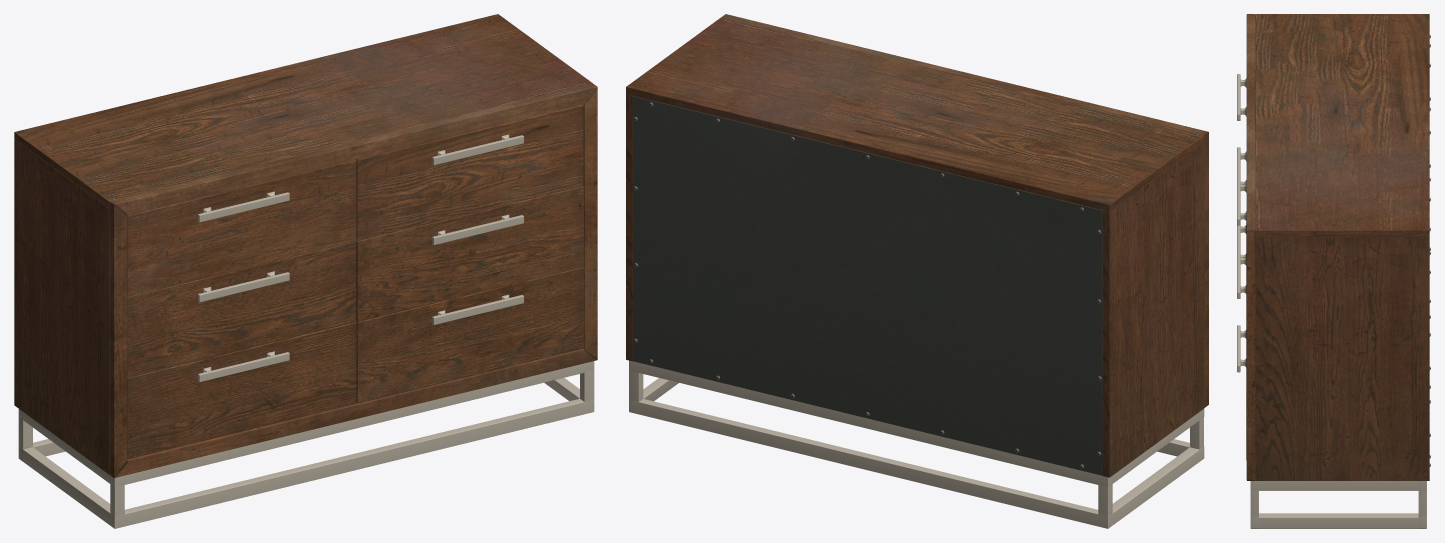
The model's file is cabinet_B071FJR3S6.glb.
The picture shows the model from 3 angles, left to right: view 1: azimuth 30°, elevation 25°; view 2: azimuth 150°, elevation 25°; view 3: azimuth 270°, elevation 25°; orthographic projection. The views are drawn at different scales.
Visible parts, largest first — view 1: RootNode; view 2: RootNode; view 3: RootNode.
Part boxes in pixels (<box>): RootNode: <box>14,14,597,528</box>; RootNode: <box>626,14,1208,528</box>; RootNode: <box>1237,14,1430,528</box>.
Bounding box in the file's own units: 1.65 × 1.06 × 0.6226.
Materials: 1 (1 with a texture image).
